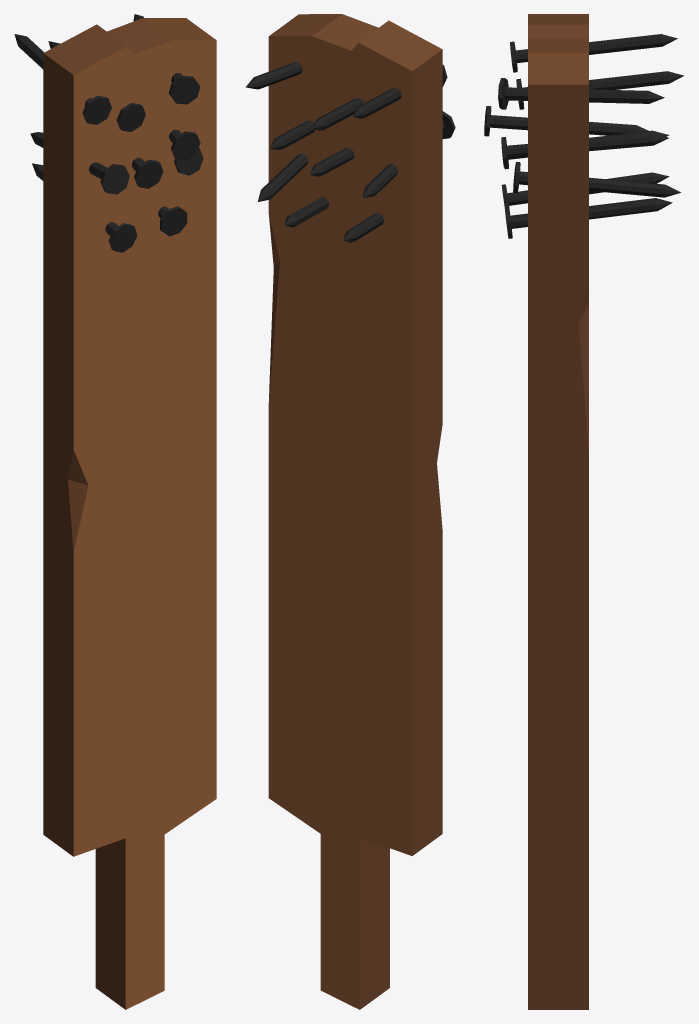
Rendered from Spiked_Plank.fbx.
3 renders of one model, left to right at view 1: azimuth 30°, elevation 25°; view 2: azimuth 150°, elevation 25°; view 3: azimuth 270°, elevation 25°, orthographic.
Visible parts, largest first — view 1: plank, nail; view 2: plank, nail; view 3: plank, nail.
Part boxes in pixels (x1,y1,x2,y2): plank: [43, 18, 216, 1009]; nail: [14, 14, 203, 252]; plank: [268, 14, 442, 1009]; nail: [246, 62, 455, 242]; plank: [528, 14, 588, 1009]; nail: [484, 34, 683, 238].
Bounding box in the file's own units: 22.64 × 146 × 27.09.
